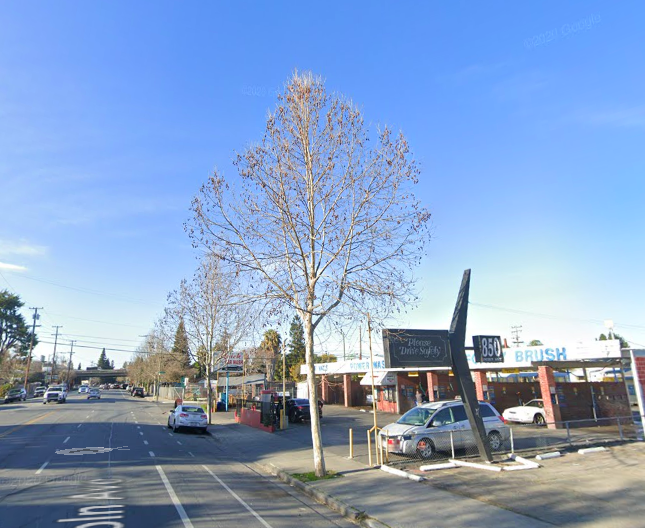tree: (181, 65, 435, 477)
